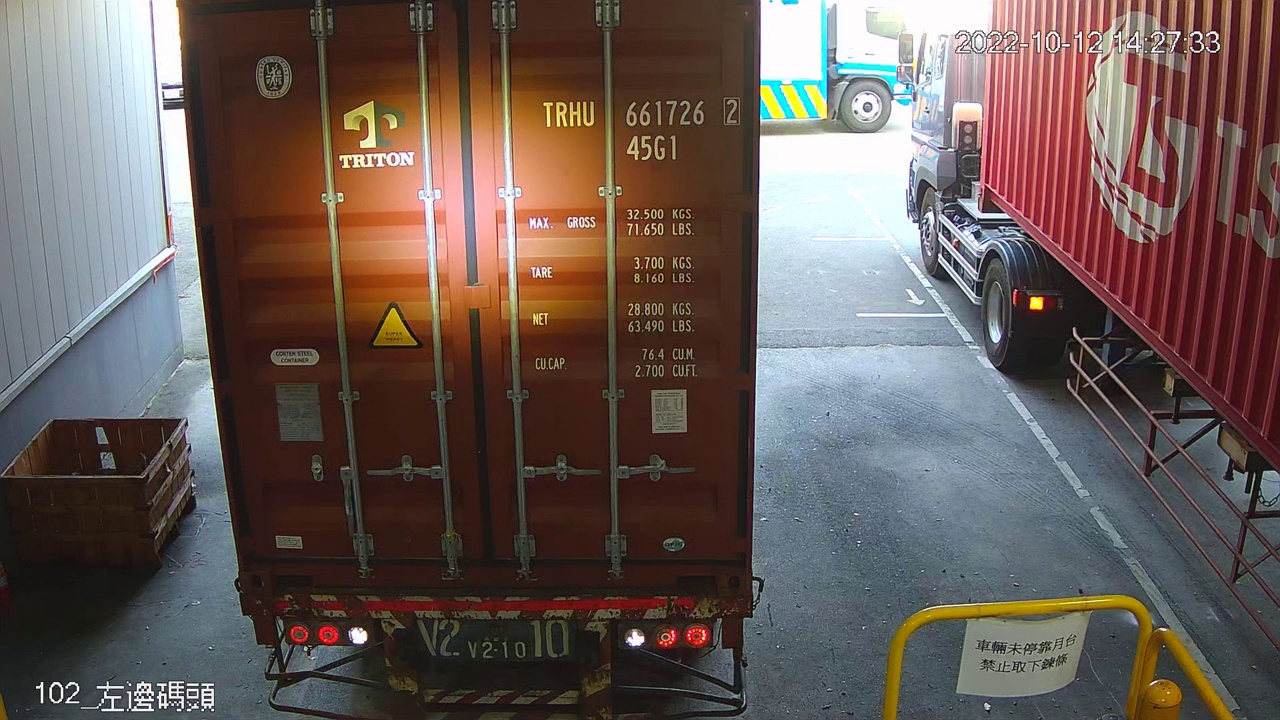container: (534, 90, 747, 168)
